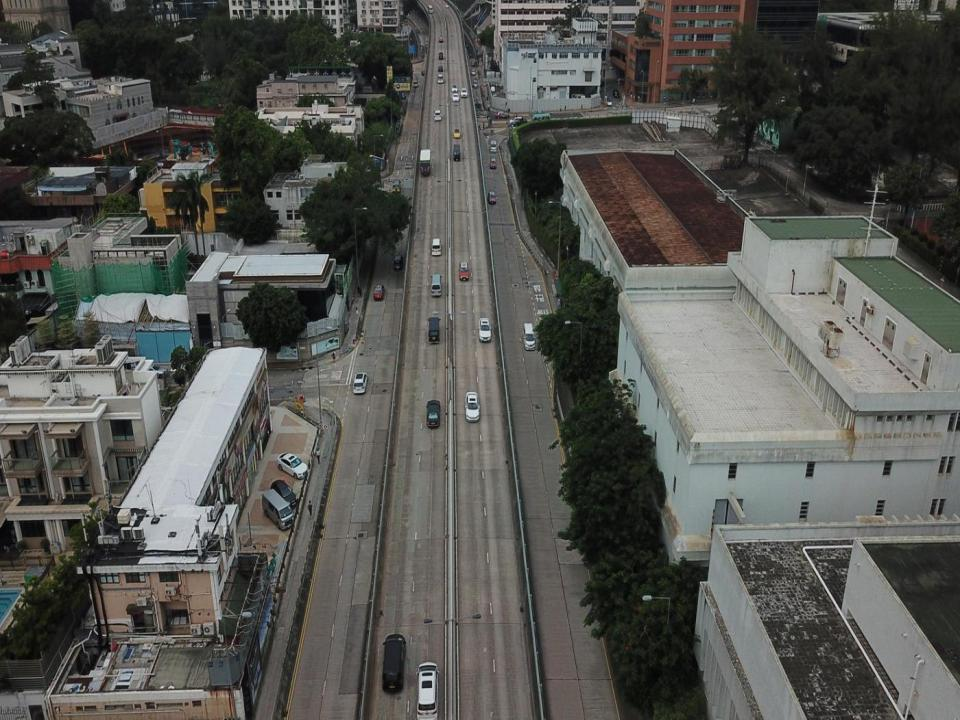bus: (419, 147, 431, 176), (532, 113, 550, 125), (414, 76, 419, 87), (428, 4, 434, 12)
car: (276, 452, 310, 478), (464, 392, 480, 422), (139, 364, 168, 378), (426, 400, 440, 427), (478, 318, 492, 342), (352, 373, 368, 393), (458, 262, 470, 280), (374, 284, 384, 300), (494, 111, 509, 119), (509, 116, 522, 125), (488, 191, 496, 204), (453, 129, 461, 138), (490, 157, 496, 169), (452, 93, 459, 102), (613, 88, 619, 98), (452, 84, 458, 92), (606, 99, 612, 106), (421, 70, 427, 76), (470, 60, 476, 66), (471, 68, 475, 75), (438, 66, 443, 71), (491, 86, 495, 92), (439, 37, 443, 42), (445, 3, 448, 7)
van: (415, 662, 440, 719), (383, 632, 406, 692), (262, 489, 294, 529), (270, 480, 298, 508), (427, 317, 441, 344), (523, 322, 536, 350), (430, 274, 442, 296), (431, 237, 442, 255), (393, 254, 404, 271), (452, 144, 462, 161), (512, 118, 528, 127), (392, 179, 401, 192), (434, 109, 442, 120), (490, 140, 497, 152), (460, 87, 468, 97), (493, 94, 499, 103), (437, 74, 443, 82), (438, 52, 444, 59), (473, 78, 477, 88)
